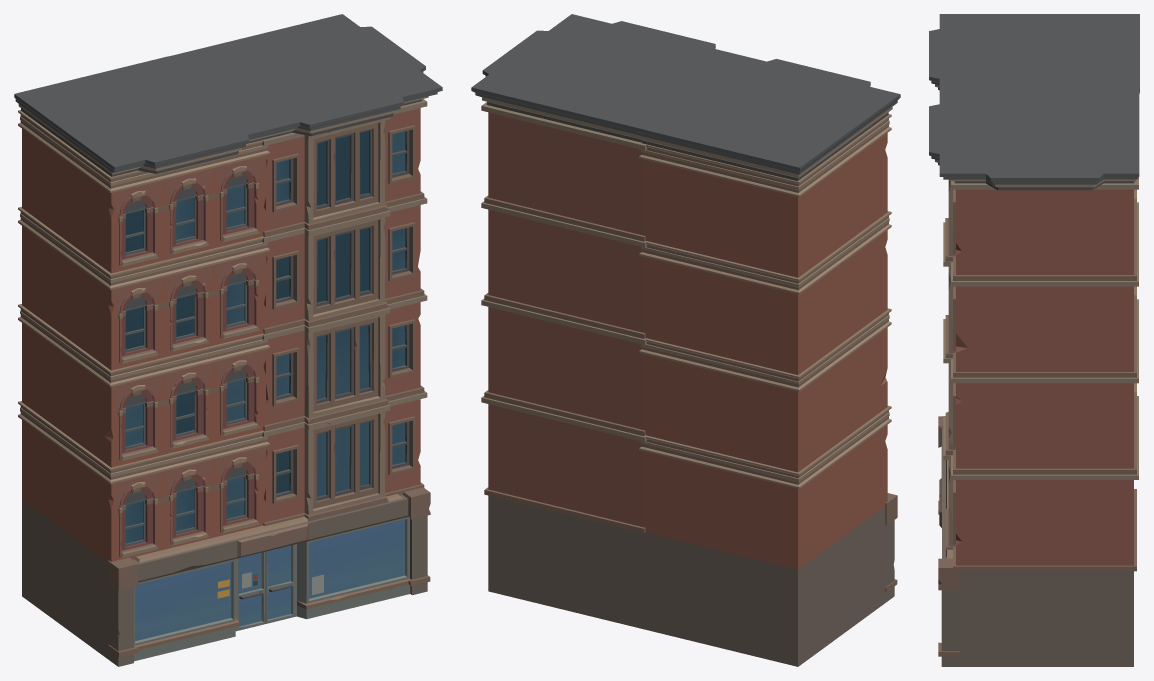
The model's file is v3-buildings-SM3D_Bld_Mixed_Double_5fl.glb.
3 views of the same model, side by side, from view 1: azimuth 30°, elevation 25°; view 2: azimuth 150°, elevation 25°; view 3: azimuth 270°, elevation 25° (orthographic).
Parts seen in each view (by area): view 1: SM3D_Bld_Mixed_Double_5fl; view 2: SM3D_Bld_Mixed_Double_5fl; view 3: SM3D_Bld_Mixed_Double_5fl.
Boxes of the visible parts, x1,y1,x2,y2 form: SM3D_Bld_Mixed_Double_5fl: [14, 14, 442, 666]; SM3D_Bld_Mixed_Double_5fl: [471, 14, 900, 666]; SM3D_Bld_Mixed_Double_5fl: [929, 14, 1139, 666].
Bounding box in the file's own units: 10.9 × 15.5 × 5.92.
Materials: 1 (1 with a texture image).
